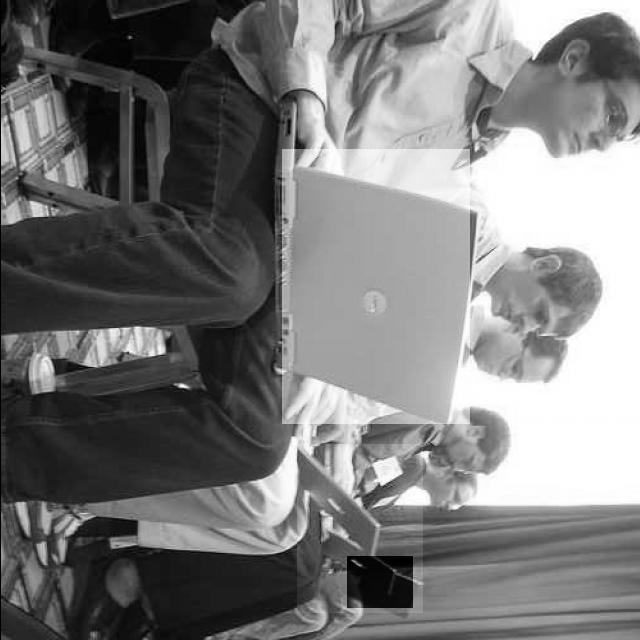-keyboard-: (282, 149, 470, 424), (297, 444, 423, 613), (348, 556, 413, 608)
